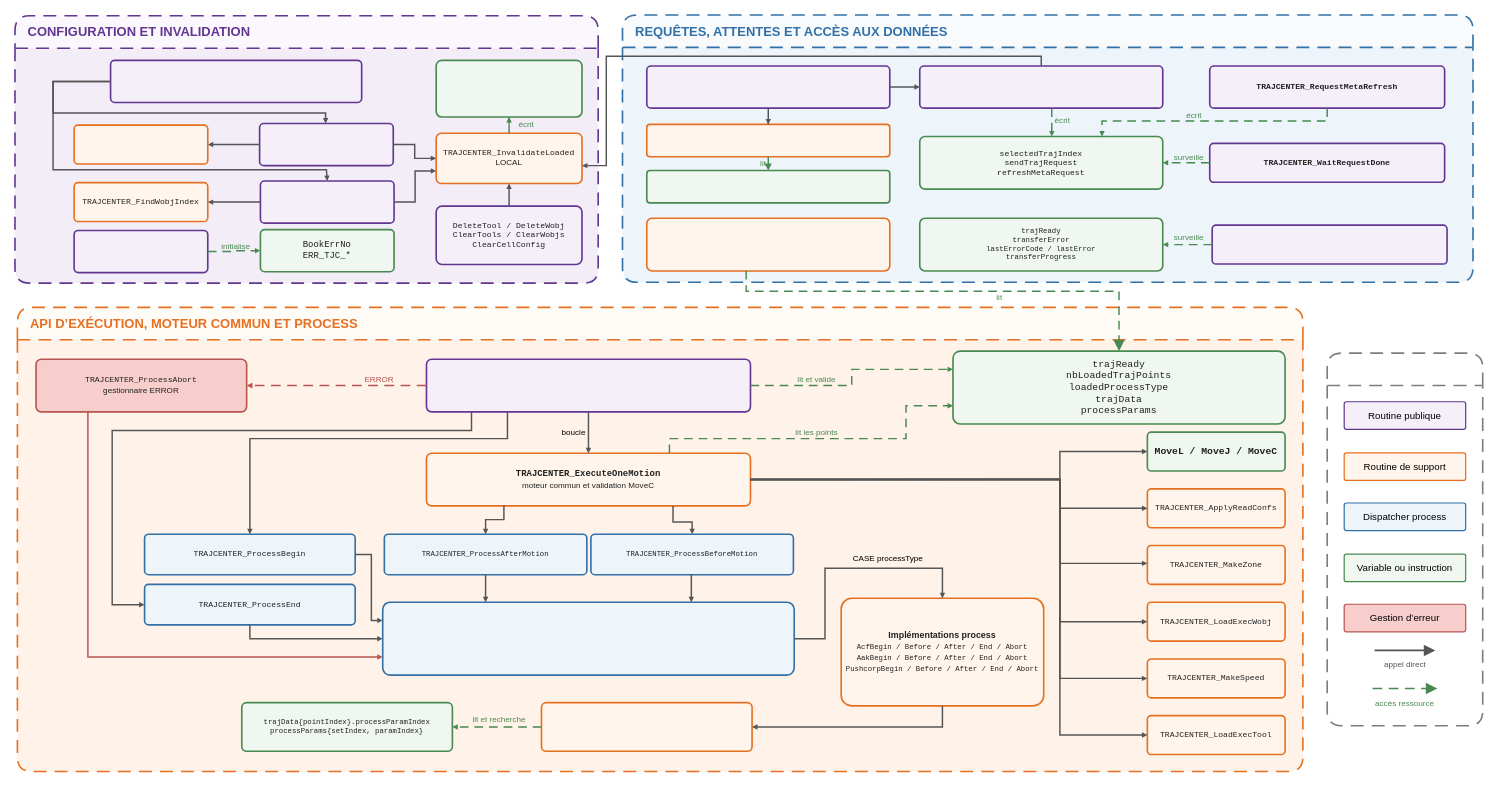
Some shapes in this 1497 by 786 pixel diagram are drawn without their labels. Here are the shapes that lost their labels. From the top down, the box of each, then its label:
(109, 59, 362, 103): TRAJCENTER_InitCellConfig
(435, 59, 582, 117): trajReady := FALSE nbLoadedTrajPoints := 0 loadedProcessType := processNone
(646, 65, 890, 109): TRAJCENTER_RequestTrajByName
(919, 65, 1163, 109): TRAJCENTER_RequestTrajectory
(73, 124, 208, 164): TRAJCENTER_FindToolIndex
(258, 122, 394, 166): TRAJCENTER_UpsertTool
(646, 123, 890, 157): TRAJCENTER_FindTrajectoryIndex
(259, 180, 394, 224): TRAJCENTER_UpsertWobj
(646, 169, 890, 203): nbTrajAvailable trajectories{i}
(73, 229, 208, 273): TRAJCENTER_InitErrors
(646, 217, 890, 271): GetLoadedPointCount GetPoint GetTool / GetWobj
(1211, 224, 1447, 264): TRAJCENTER_WaitTrajectoryReady
(425, 358, 751, 412): TRAJCENTER_ExecuteLoaded API publique unique
(1326, 352, 1483, 726): LÉGENDE
(382, 601, 795, 676): Dispatcher process TEST processType NONE / ACF / AAK / PUSHCORP
(540, 701, 752, 752): TRAJCENTER_GetProcessParam accès contrôlé à processParams
